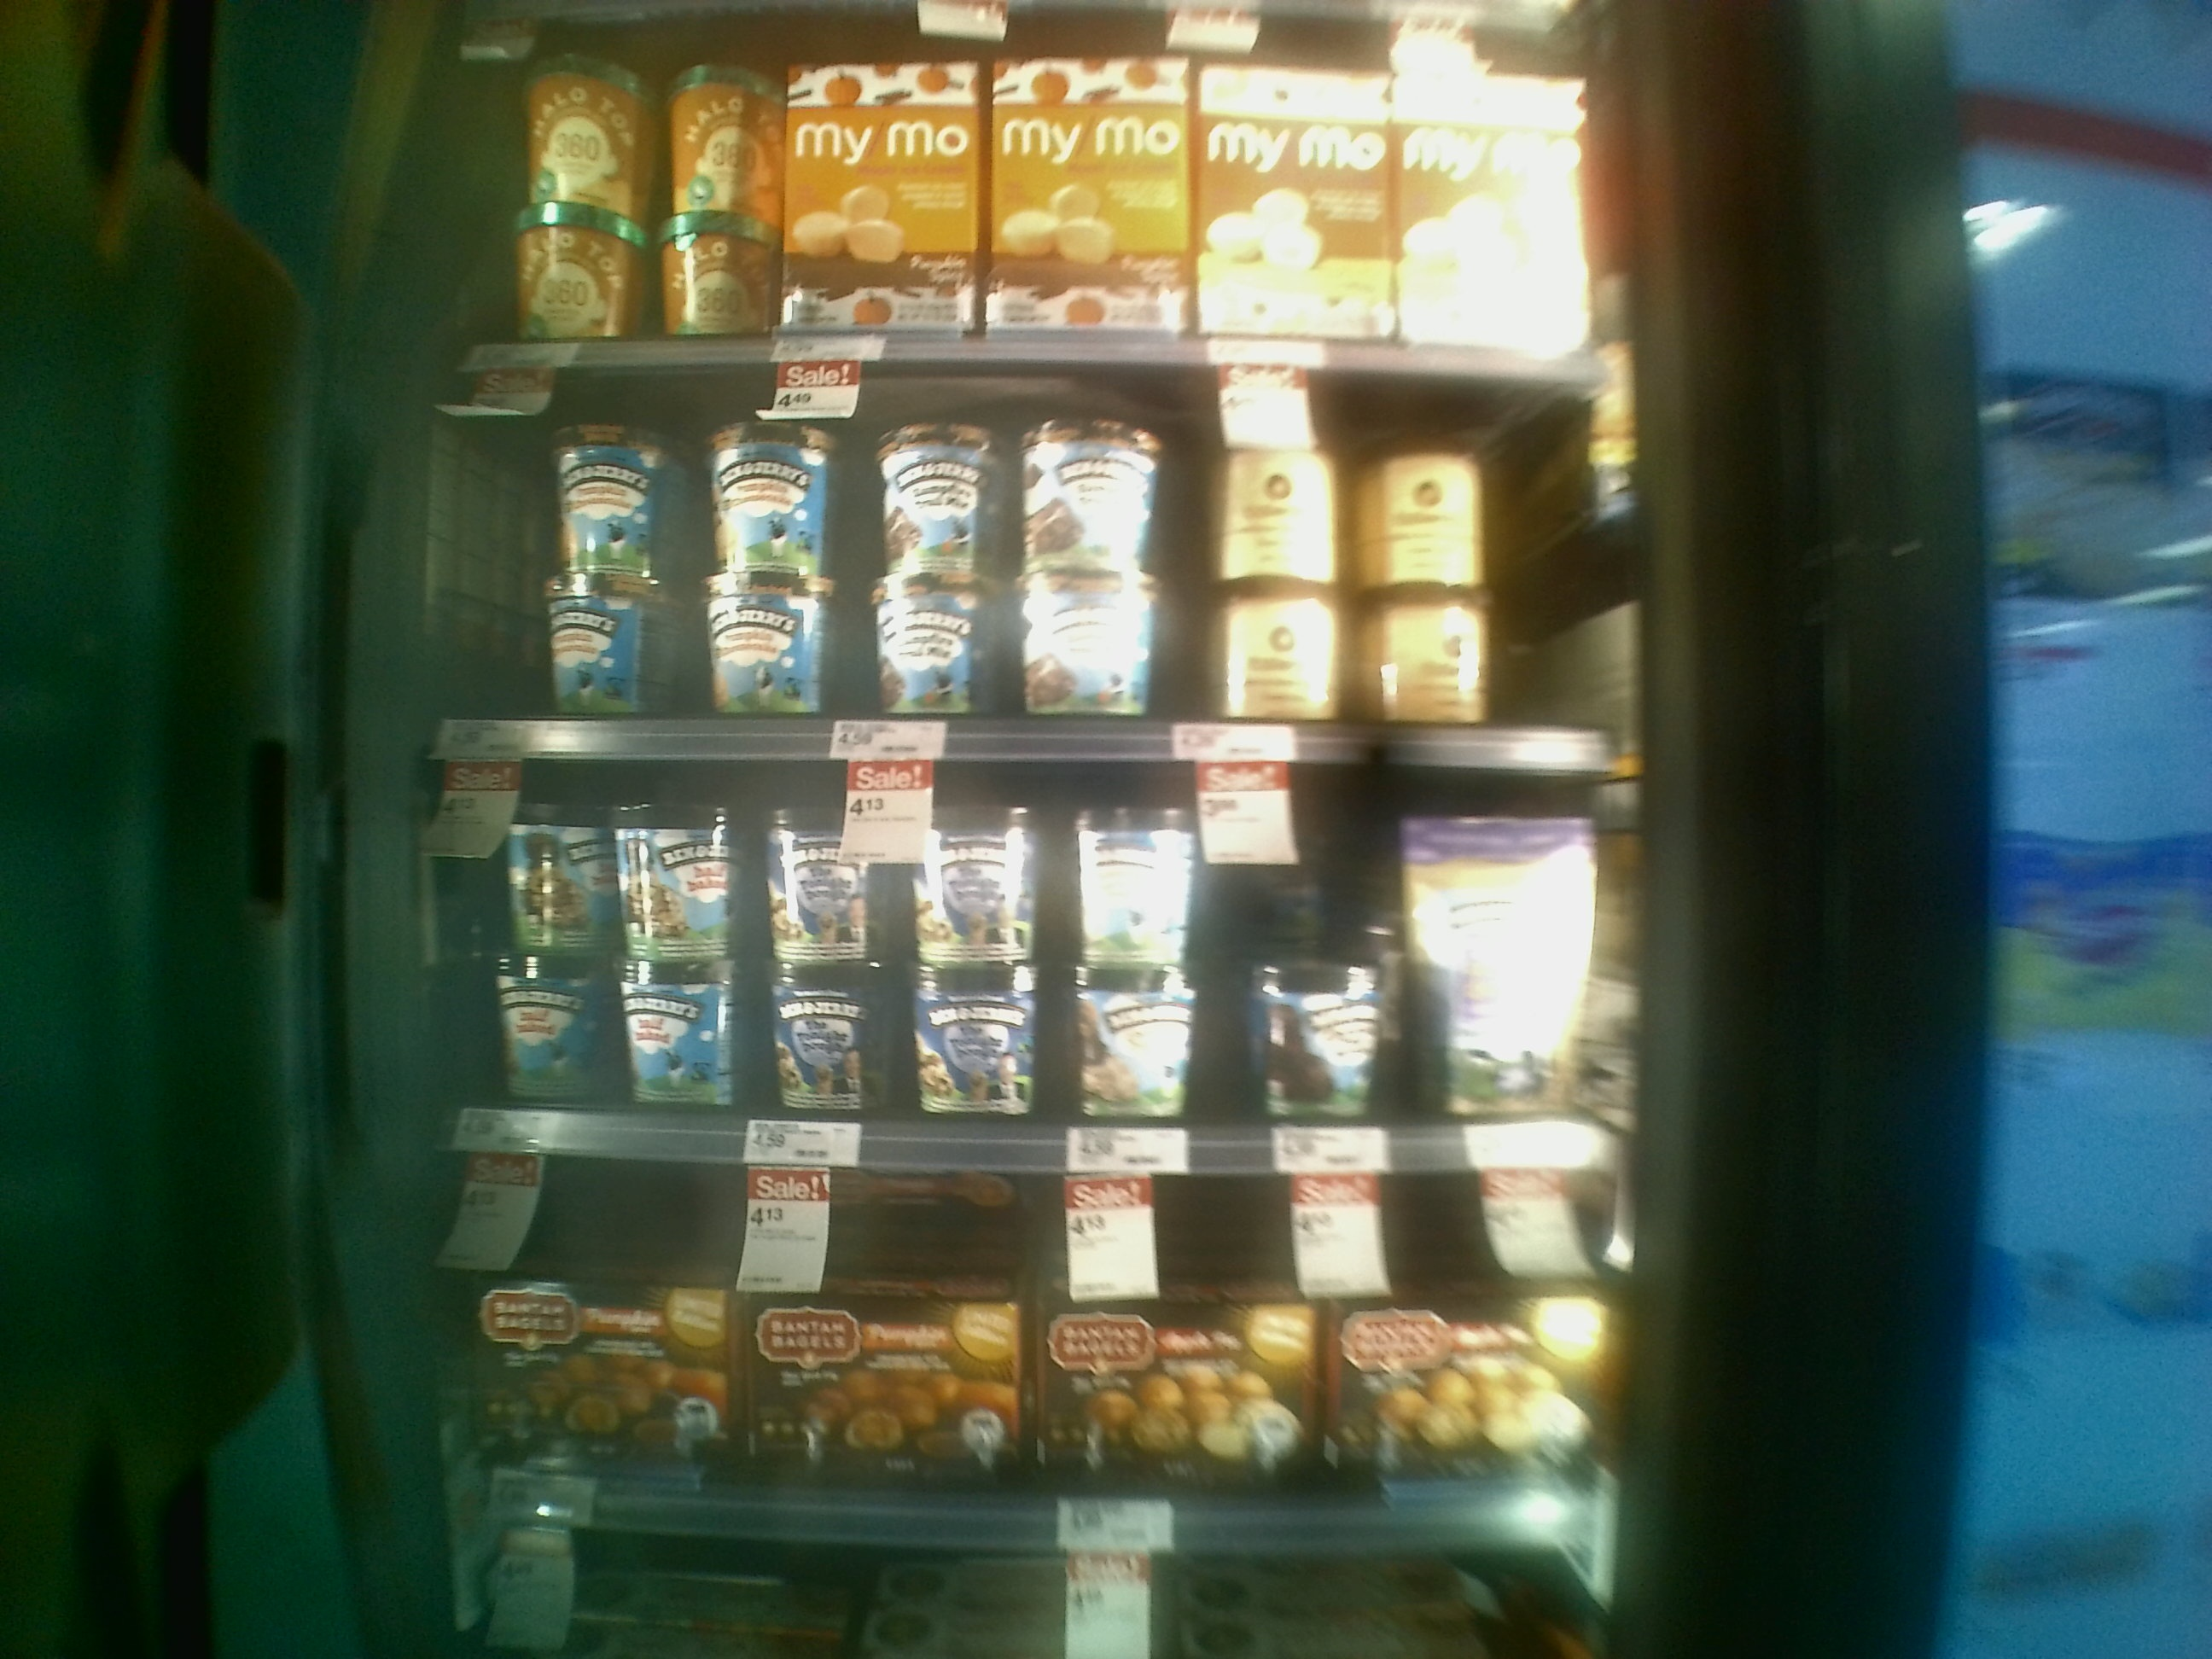shelf: (381, 735, 1627, 1182), (415, 349, 1639, 786), (394, 1124, 1630, 1556)
